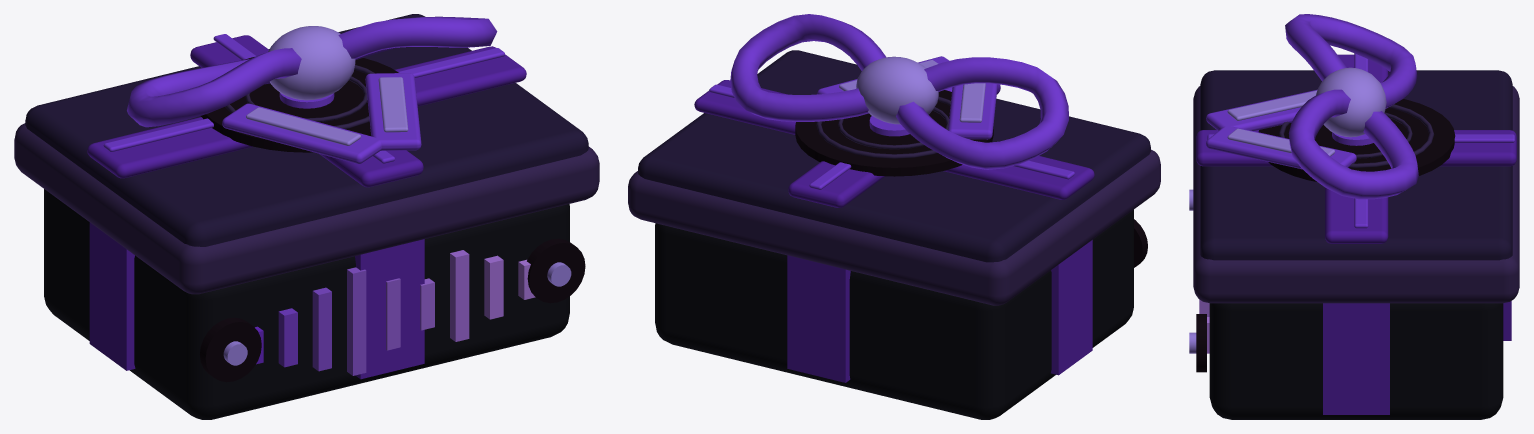
Rendered from boite_cadeau_MW_optimisee.glb.
3 renders of one model, left to right at view 1: azimuth 30°, elevation 25°; view 2: azimuth 150°, elevation 25°; view 3: azimuth 270°, elevation 25°, orthographic. The views are drawn at different scales.
Visible parts, largest first — view 1: Meewav_Music_Treasure; view 2: Meewav_Music_Treasure; view 3: Meewav_Music_Treasure.
Boxes of the visible parts, x1,y1,x2,y2 form: Meewav_Music_Treasure: [14, 14, 599, 419]; Meewav_Music_Treasure: [628, 14, 1160, 419]; Meewav_Music_Treasure: [1189, 14, 1519, 419].
Size of the model in its own units: 0.372 by 0.2599 by 0.2815.
